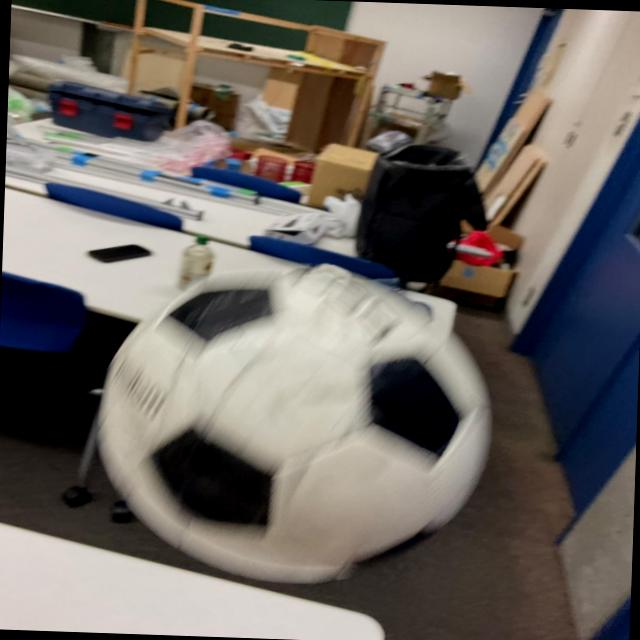Soccer Ball: (92, 259, 498, 592)
